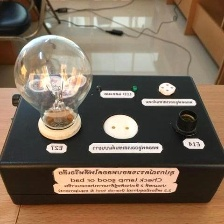book: (0, 71, 224, 210)
light_bulb: (8, 29, 97, 148)
